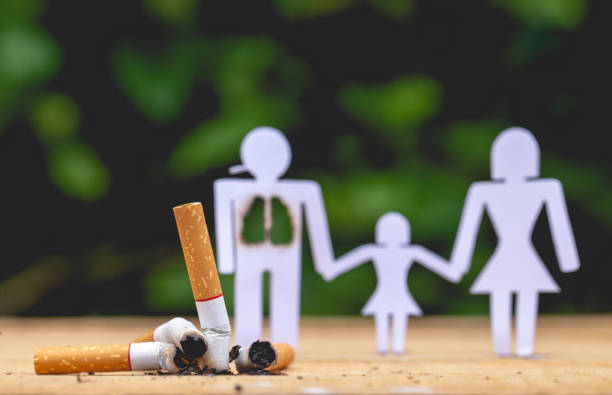cigarette: (172, 200, 231, 377), (32, 340, 188, 377), (129, 317, 208, 359), (247, 339, 298, 374)
